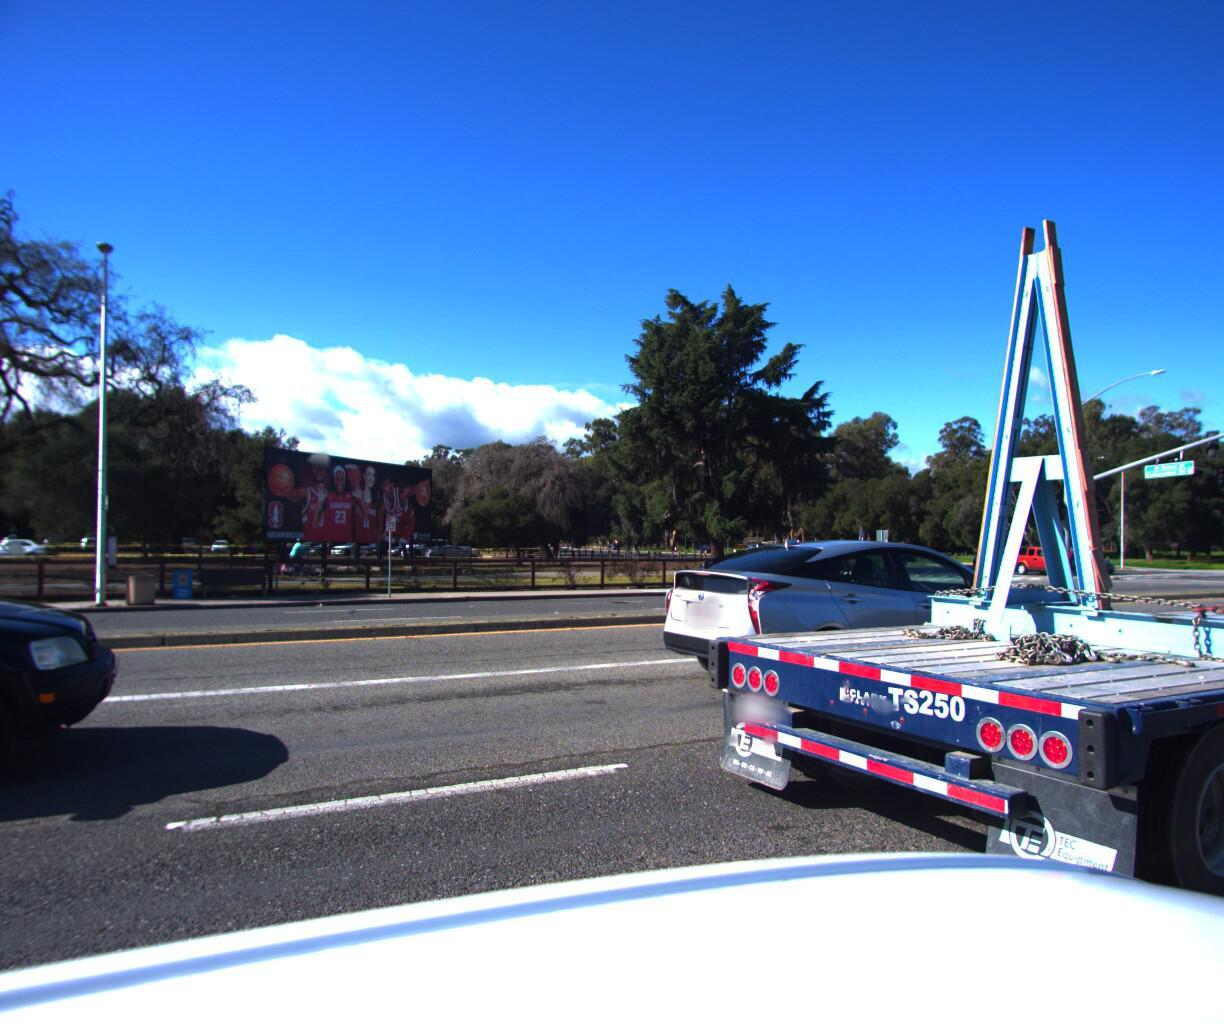bicycle: (276, 533, 336, 576)
car: (642, 533, 1075, 705), (0, 447, 120, 985), (964, 543, 1036, 567)
truck: (669, 0, 1224, 1024)
